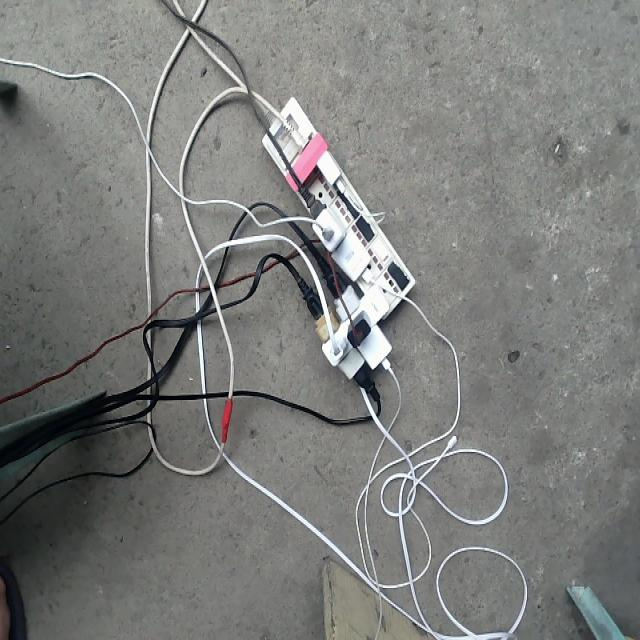-: (260, 92, 416, 380)
